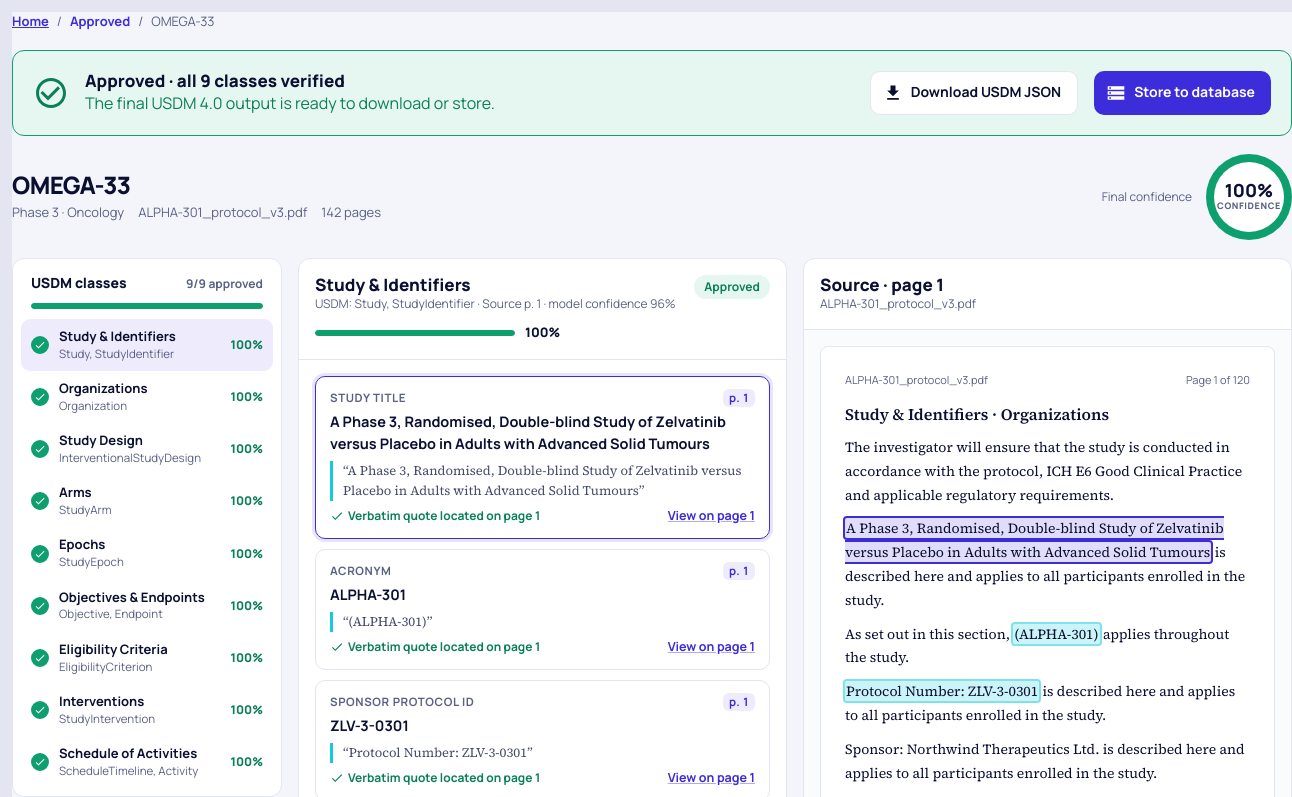
Test: ReviewWorkspace › shows the approved banner and stores the output
The width and height of the screenshot is (1292, 797).
Check: the heading "Approved · all 9 classes verified" is shown, box [85, 68, 345, 92]
Click the button "Store to database": (1183, 93) [1094, 71, 1271, 115]
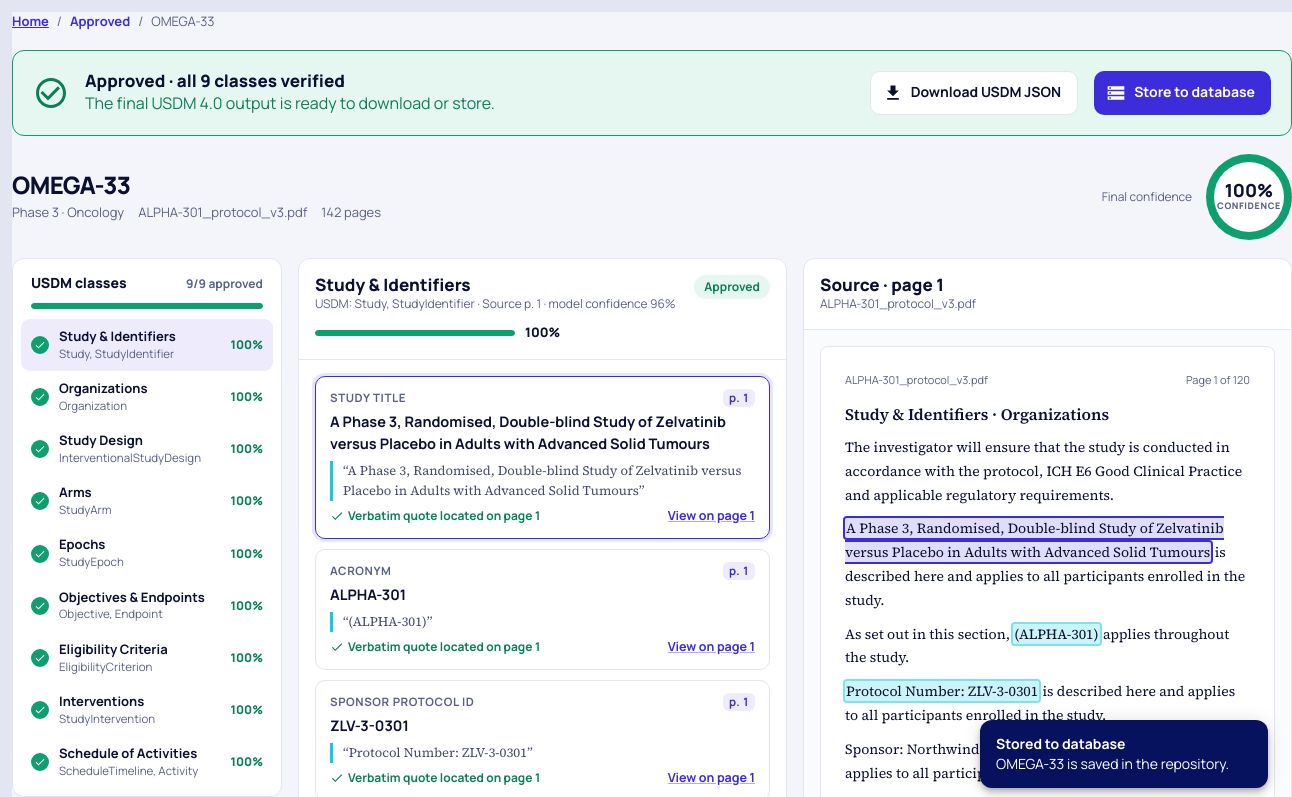
Check: the text "saved in the repository" is shown, box [996, 754, 1229, 773]
